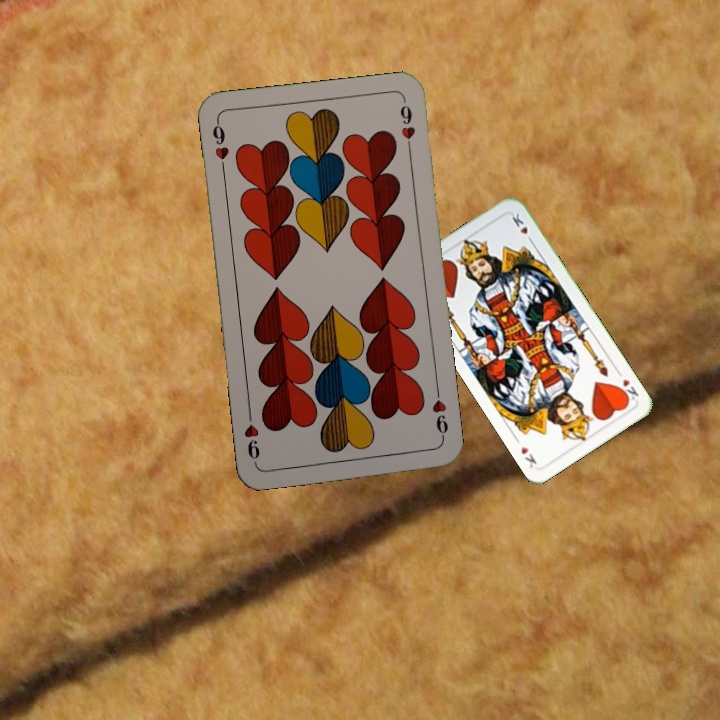H9: (208, 117, 232, 176), (428, 384, 451, 443)
HK: (615, 375, 641, 404)
